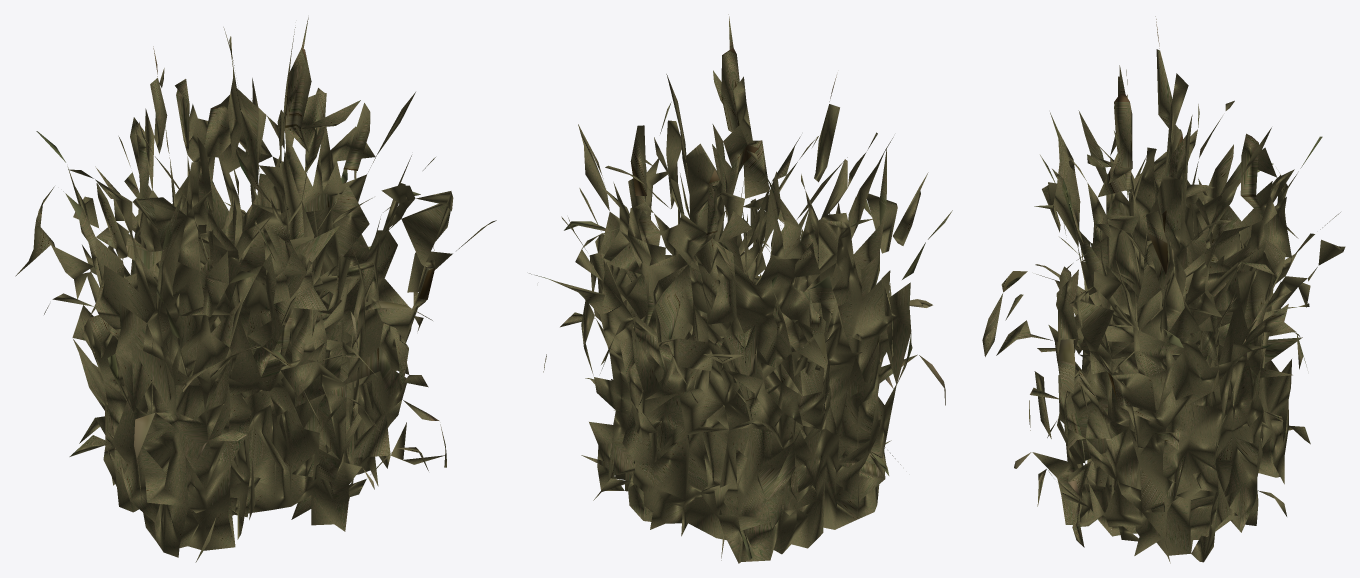
File: reed.glb
3 views of the same model, side by side, from view 1: azimuth 30°, elevation 25°; view 2: azimuth 150°, elevation 25°; view 3: azimuth 270°, elevation 25° (orthographic). The views are drawn at different scales.
Size of the model in its own units: 1.57 by 1.9 by 1.37.
Materials: 1 (1 with a texture image).
